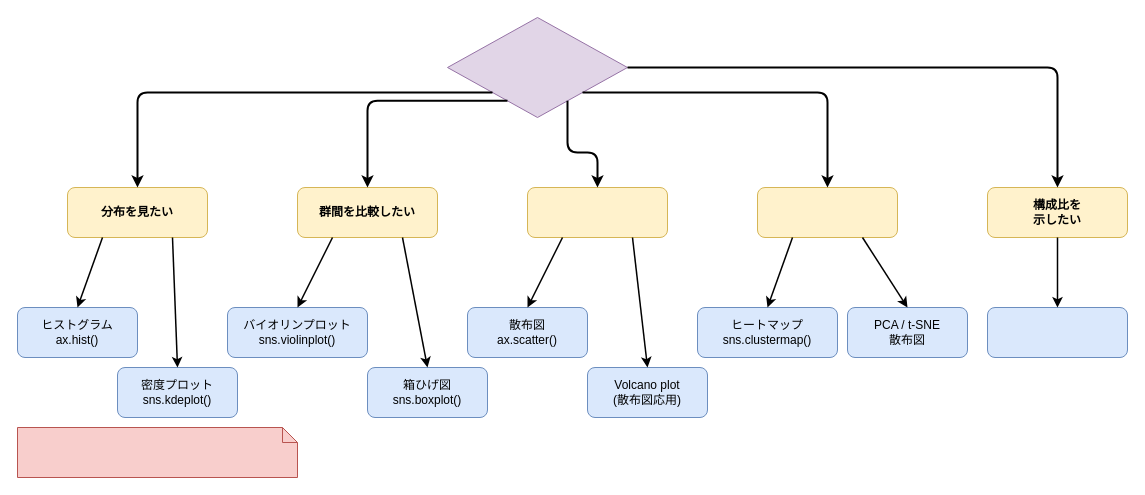
This 1145x495 diagram has some shape labels left out. The shapes that lost their labels are listed below. From the top down, each one's box as (x1, y1, x2, y2) in pixels, then its label:
(446, 16, 628, 118): データで何を 示したいか？
(526, 186, 668, 238): 変数間の関係を 見たい
(756, 186, 898, 238): パターン・ クラスタを見たい
(986, 306, 1128, 358): 積み上げ棒グラフ ax.bar(stacked)
(16, 426, 298, 478): ⚠ 棒グラフ（dynamite plot）で 分布を隠さない → バイオリンプロットを使う
